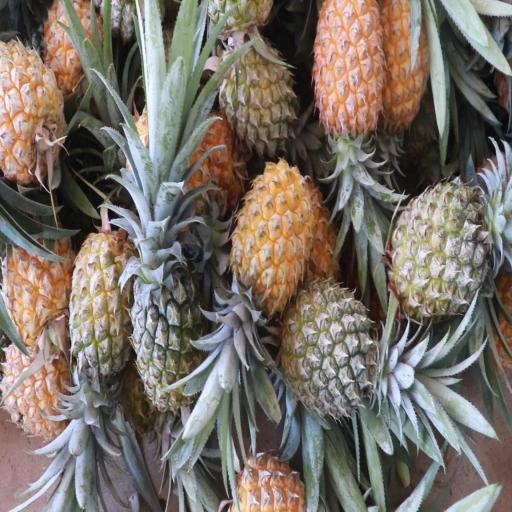------------------------------: (70, 217, 134, 389)
Pineapple - v8 v1: (313, 0, 384, 234), (234, 153, 306, 382), (0, 219, 82, 352), (0, 49, 77, 186), (387, 0, 435, 147), (0, 349, 77, 438), (48, 0, 109, 94)
